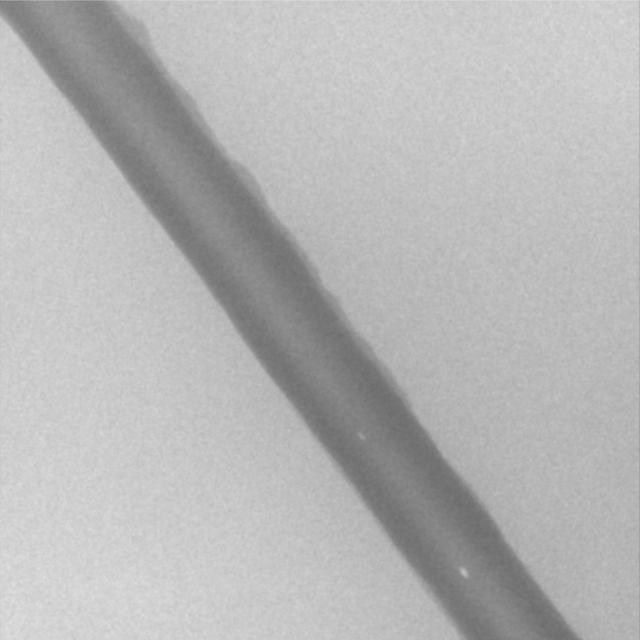air hole: (457, 566, 468, 580), (355, 429, 366, 441)
